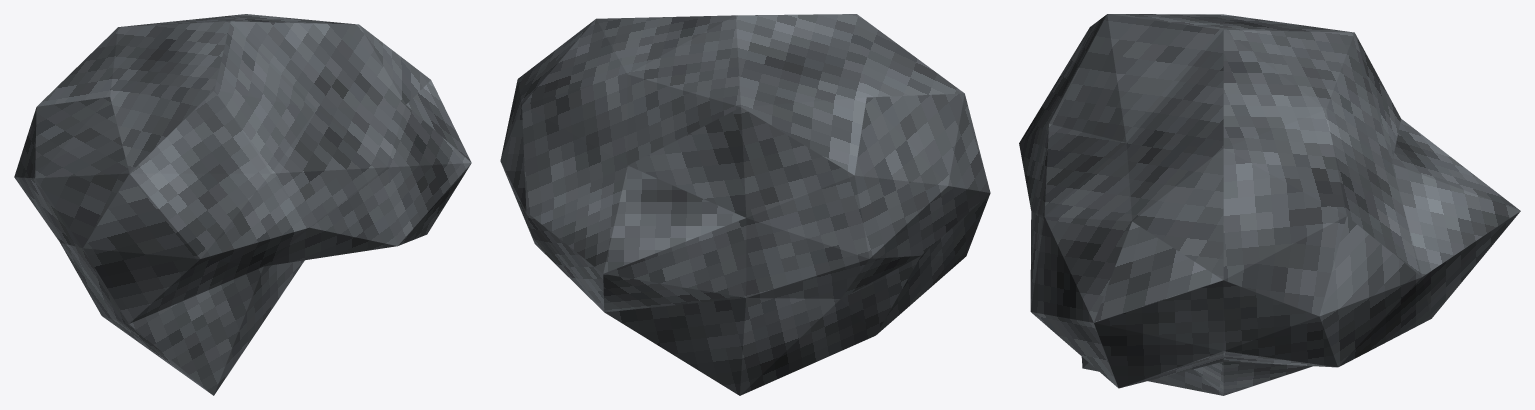
Rendered from Astreroid_7.fbx.
3 renders of one model, left to right at view 1: azimuth 30°, elevation 25°; view 2: azimuth 150°, elevation 25°; view 3: azimuth 270°, elevation 25°, orthographic. The views are drawn at different scales.
Parts seen in each view (by area): view 1: Asteroid_LowPoly; view 2: Asteroid_LowPoly; view 3: Asteroid_LowPoly.
Part boxes in pixels (x1,y1,x2,y2): Asteroid_LowPoly: (14, 14, 471, 395); Asteroid_LowPoly: (500, 14, 990, 395); Asteroid_LowPoly: (1019, 14, 1520, 395).
Bounding box in the file's own units: 467 × 354 × 420.
